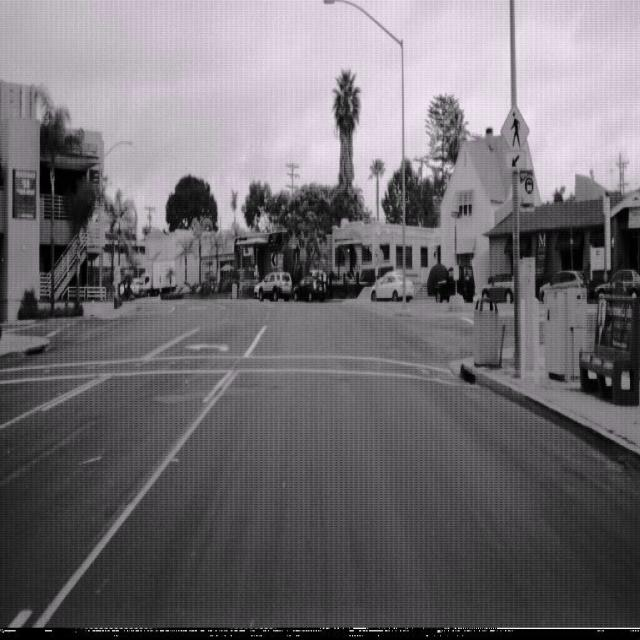pedestrianCrossing: (500, 100, 530, 160)
